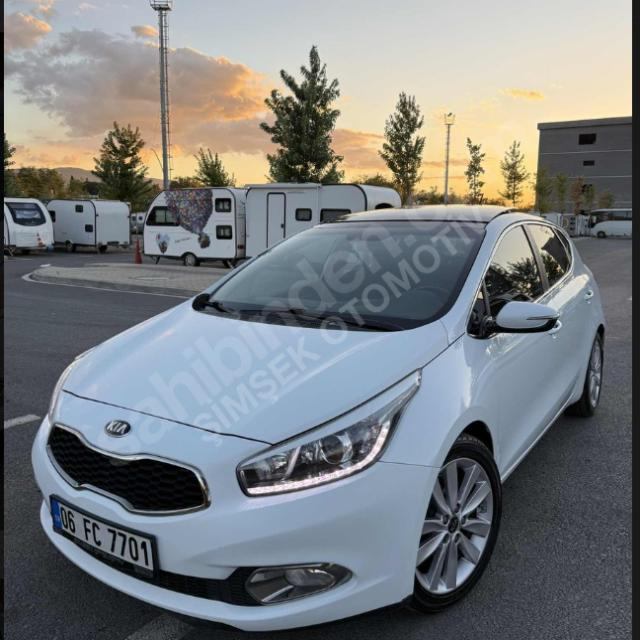kia: (103, 414, 133, 438)
